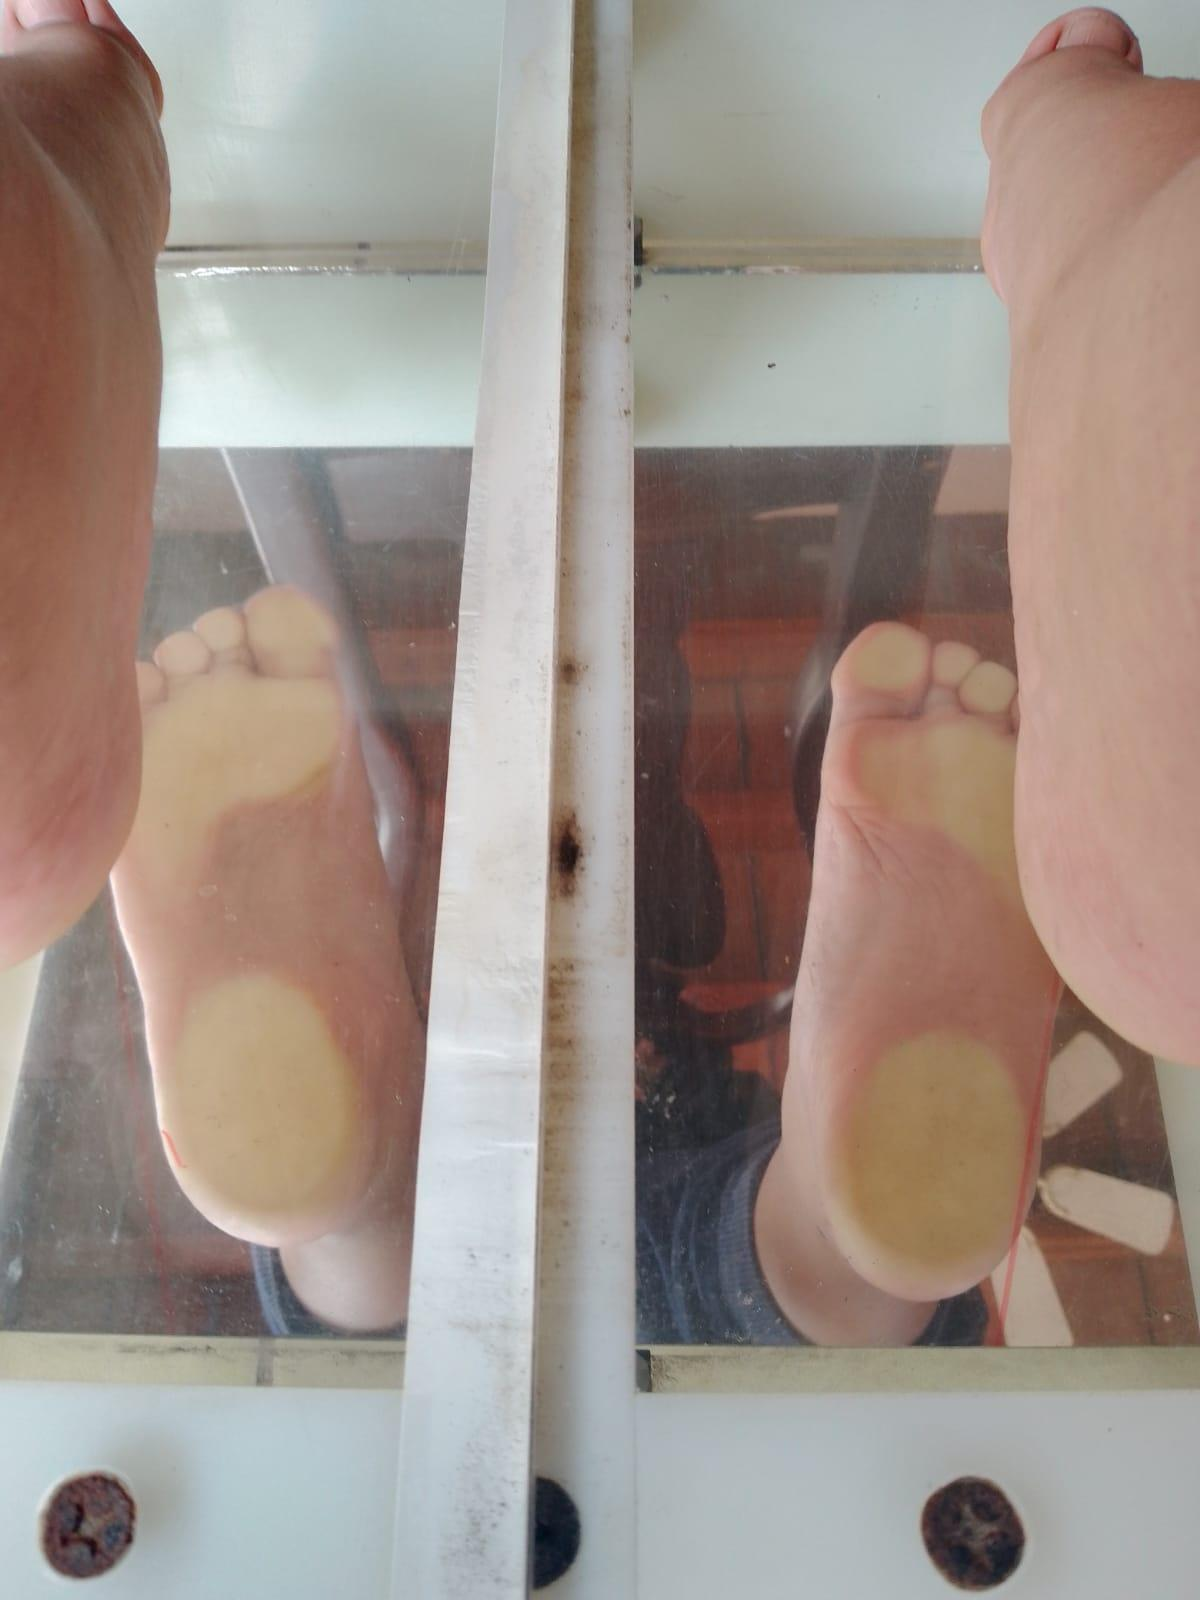1: (788, 605, 1098, 1300)
Present: (105, 574, 450, 1260)
